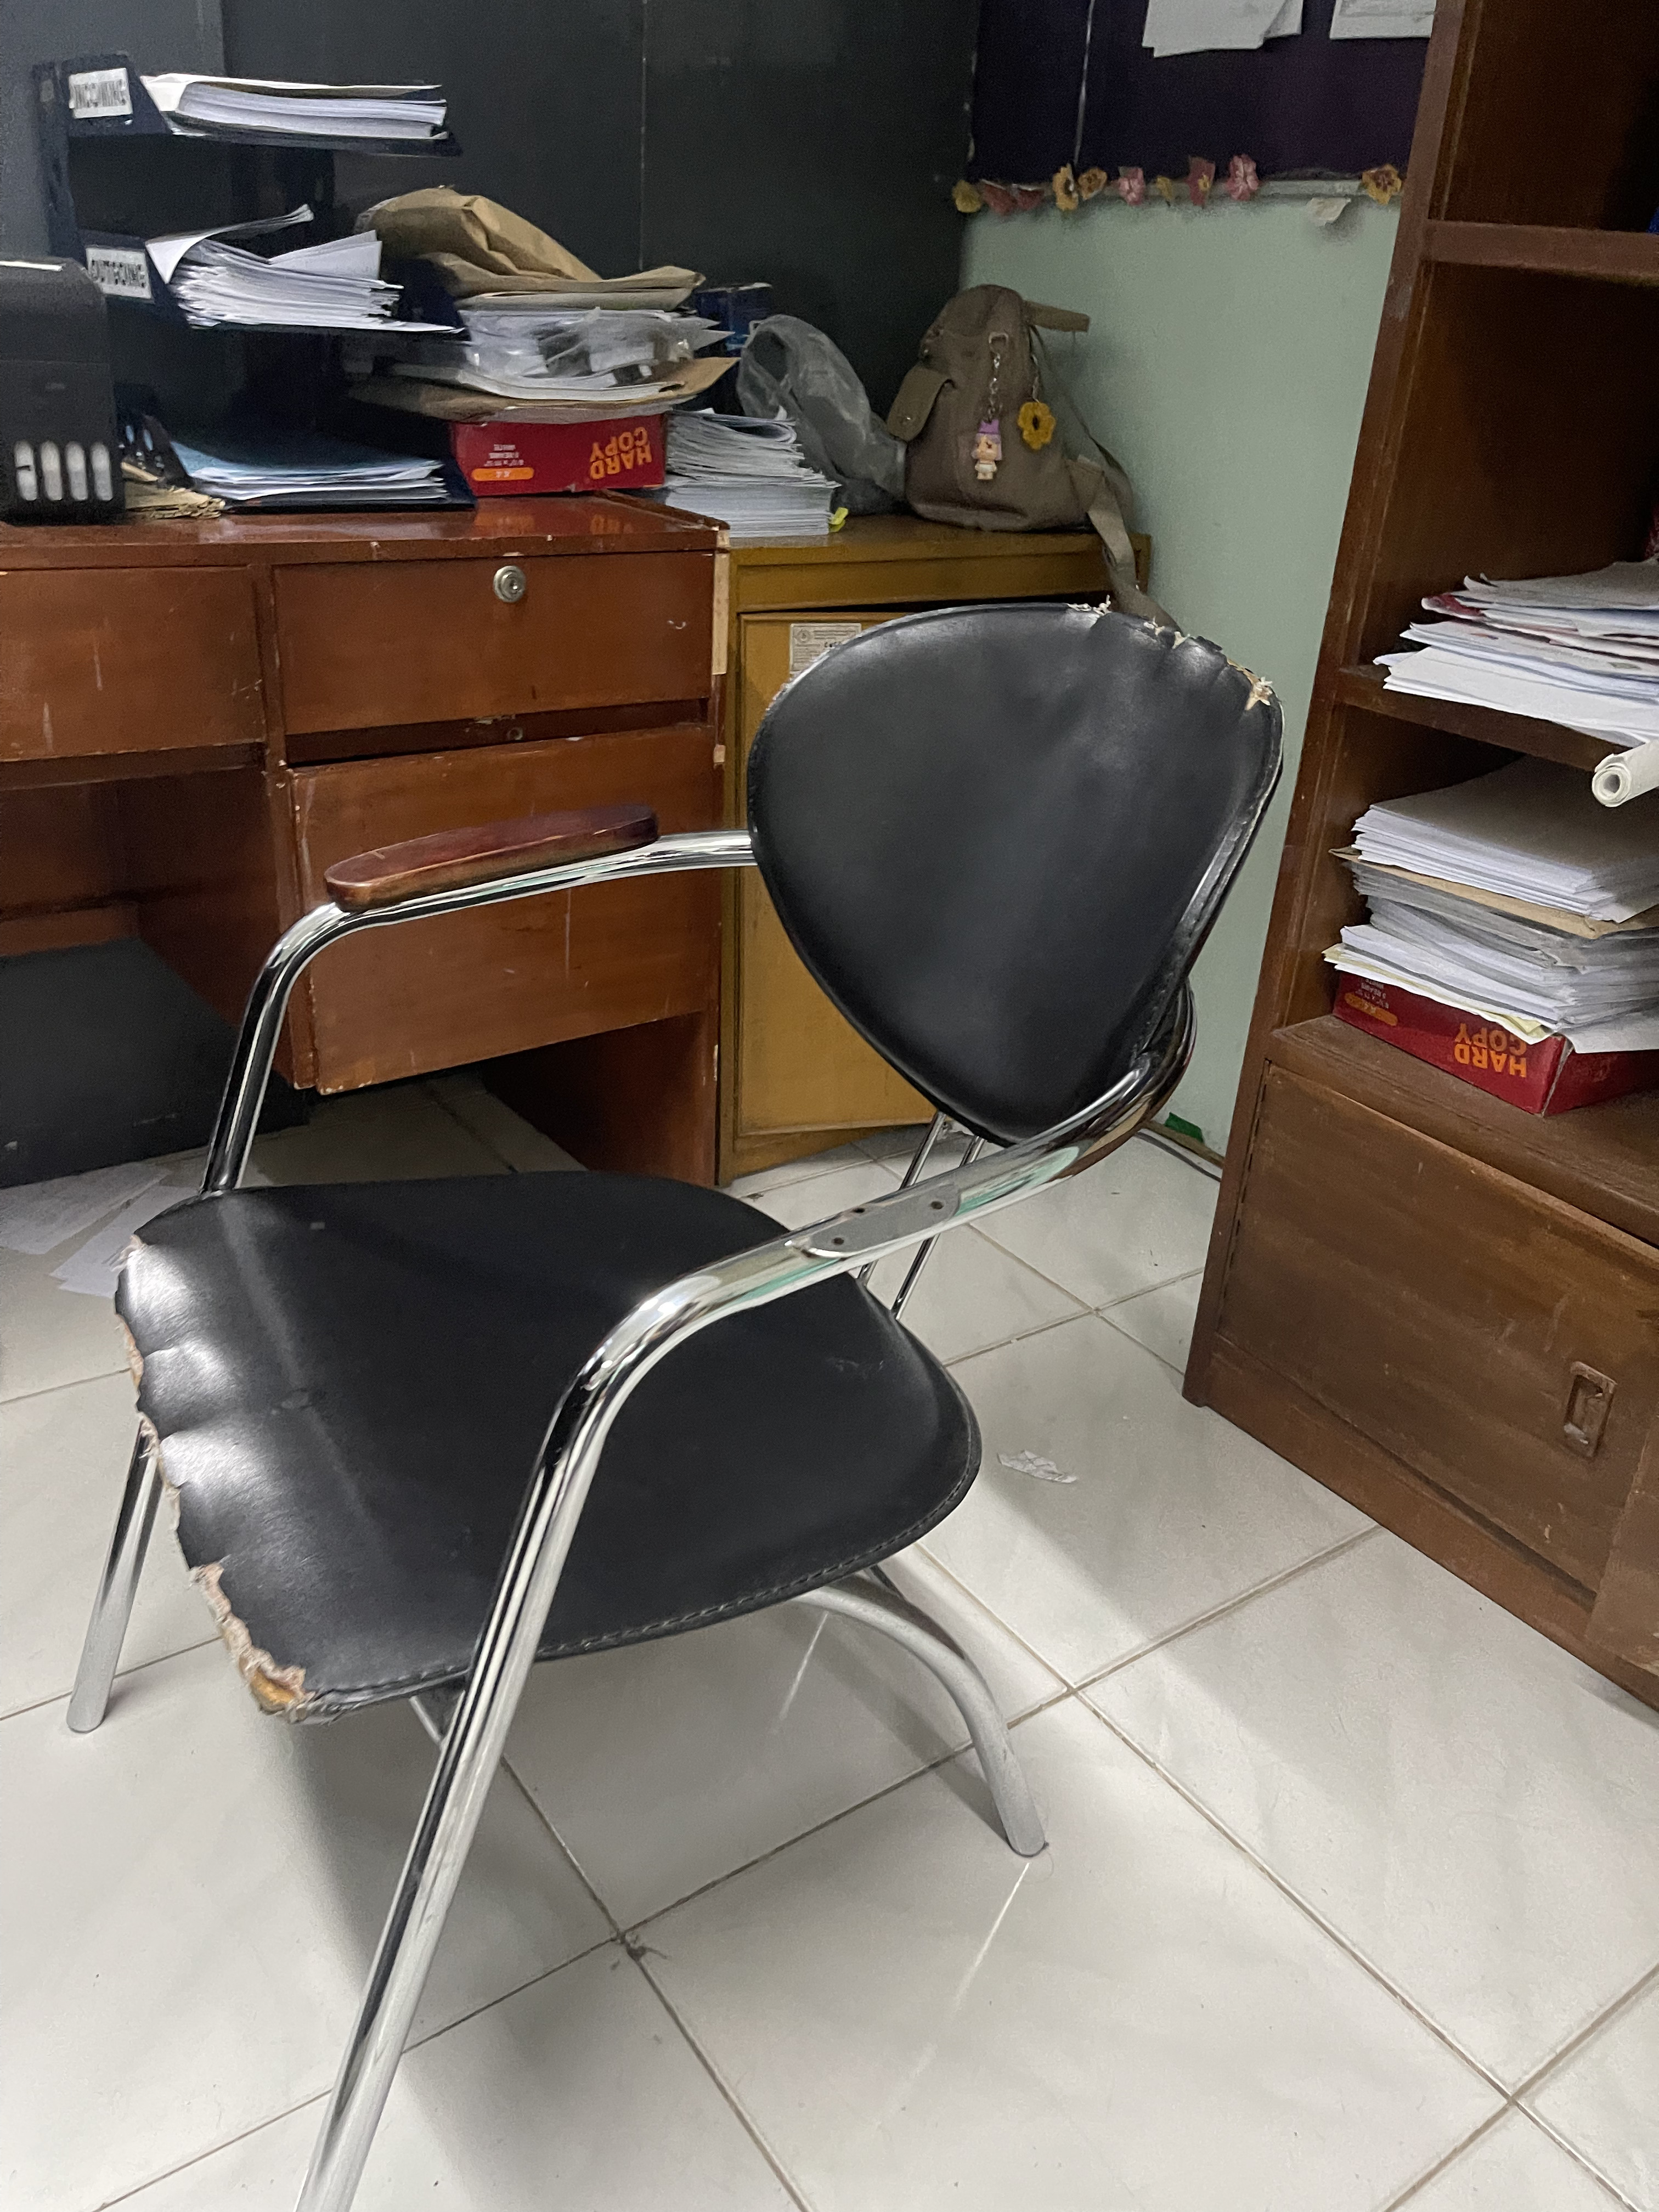chair1: (61, 589, 1291, 2212)
